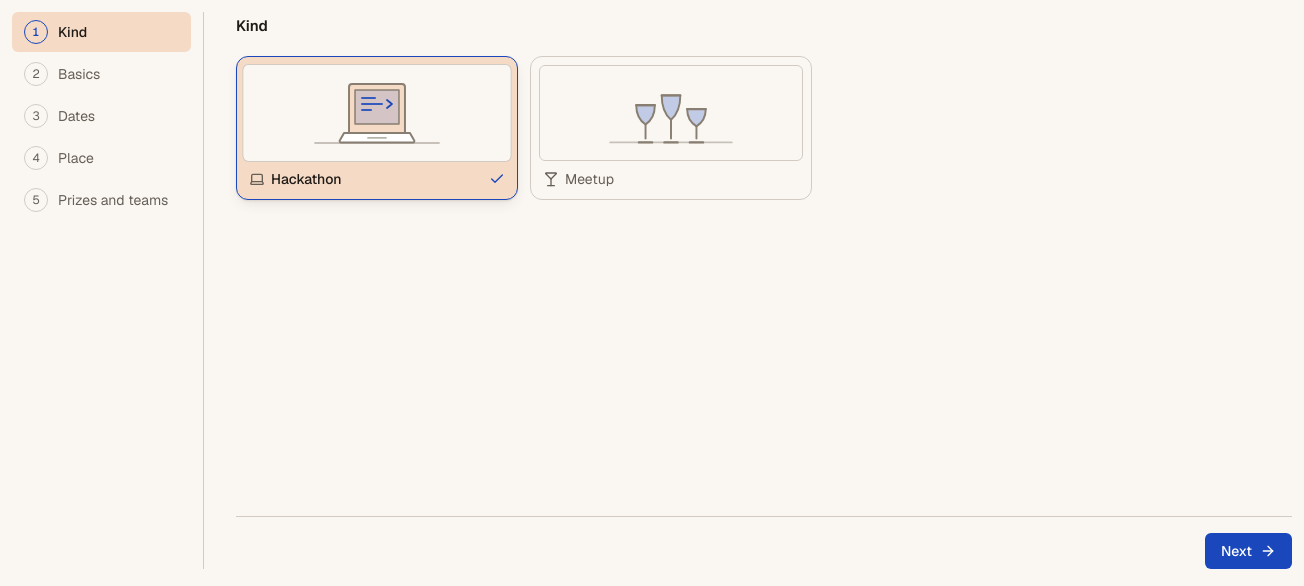
Scenario: the stages are a pipeline, not one sheet › lets the user go back to an earlier stage and find what was typed
Step 1. Click the button "2 Basics" → (102, 74), box [12,54,191,94]
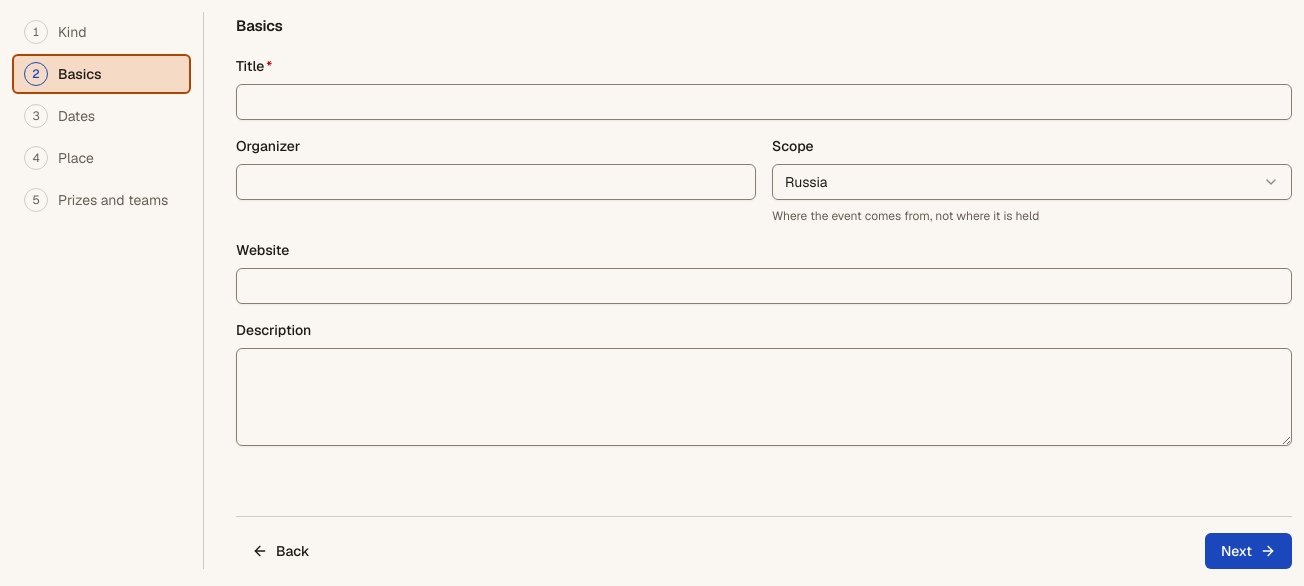
Step 2. Type "Went forward" into the field with id "event-title" → (764, 102), box [236,84,1292,120]
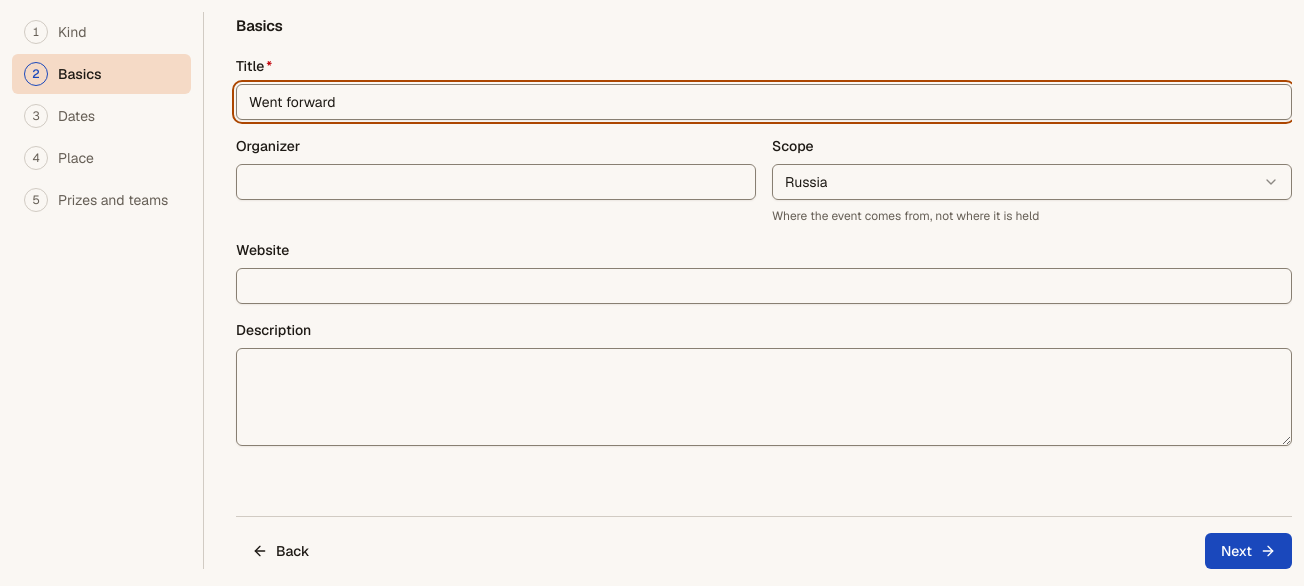
Step 3. Click the button "4 Place" → (102, 158), box [12,138,191,178]
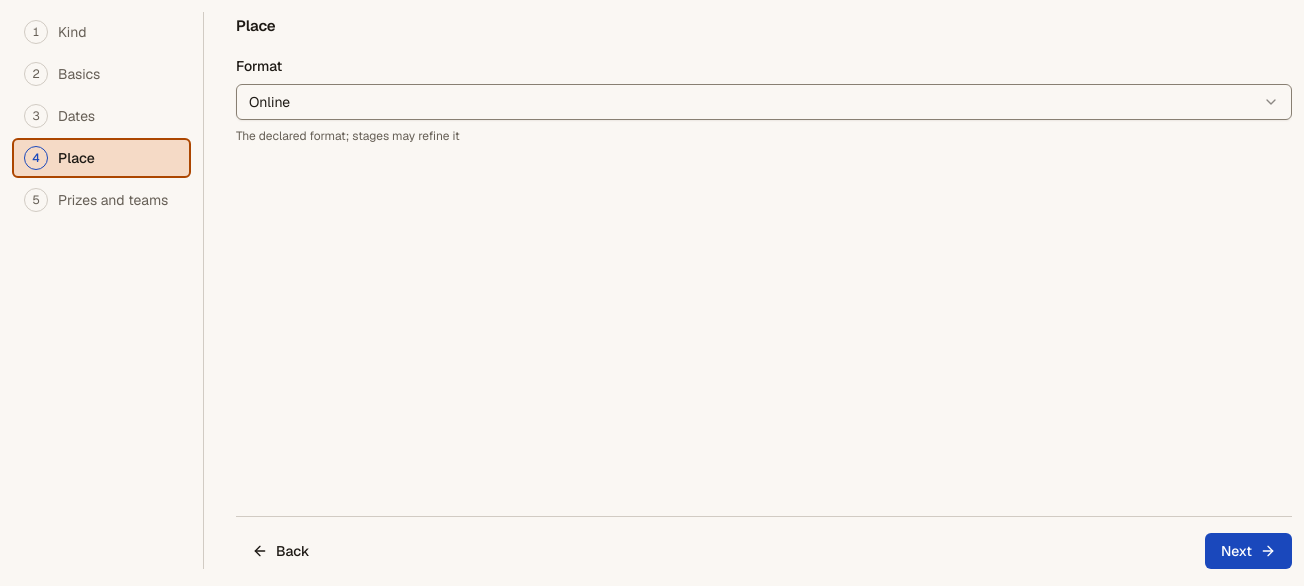
Step 4. Click the button "2 Basics" → (102, 74), box [12,54,191,94]
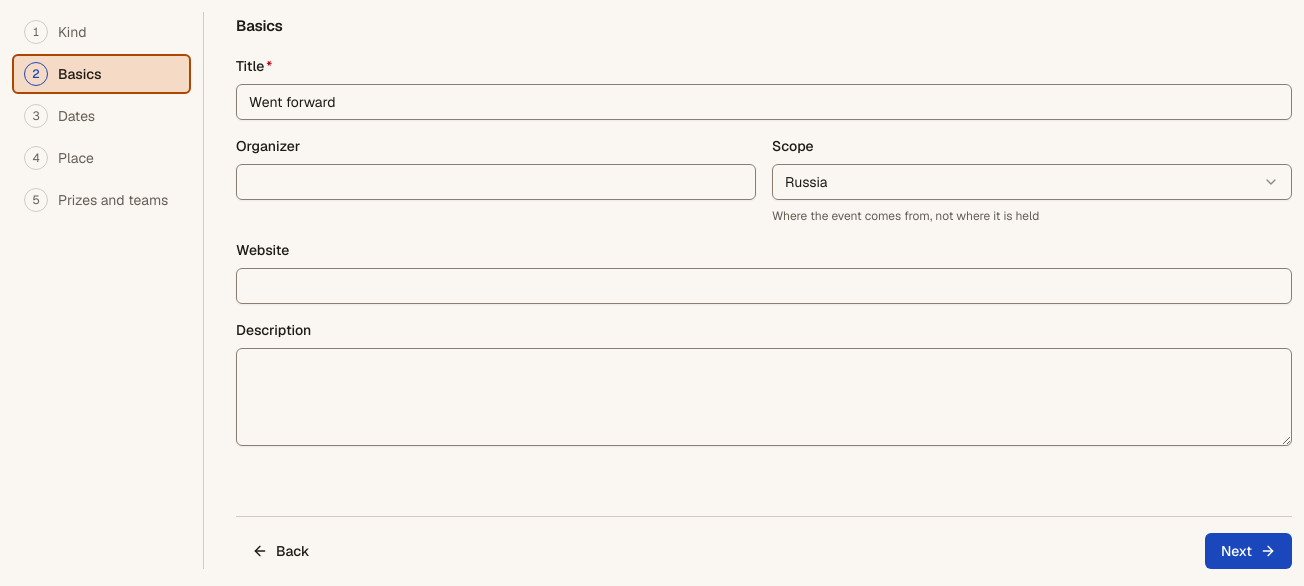
Result: the field with id "event-title" holds "Went forward" at [236,84,1292,120]
